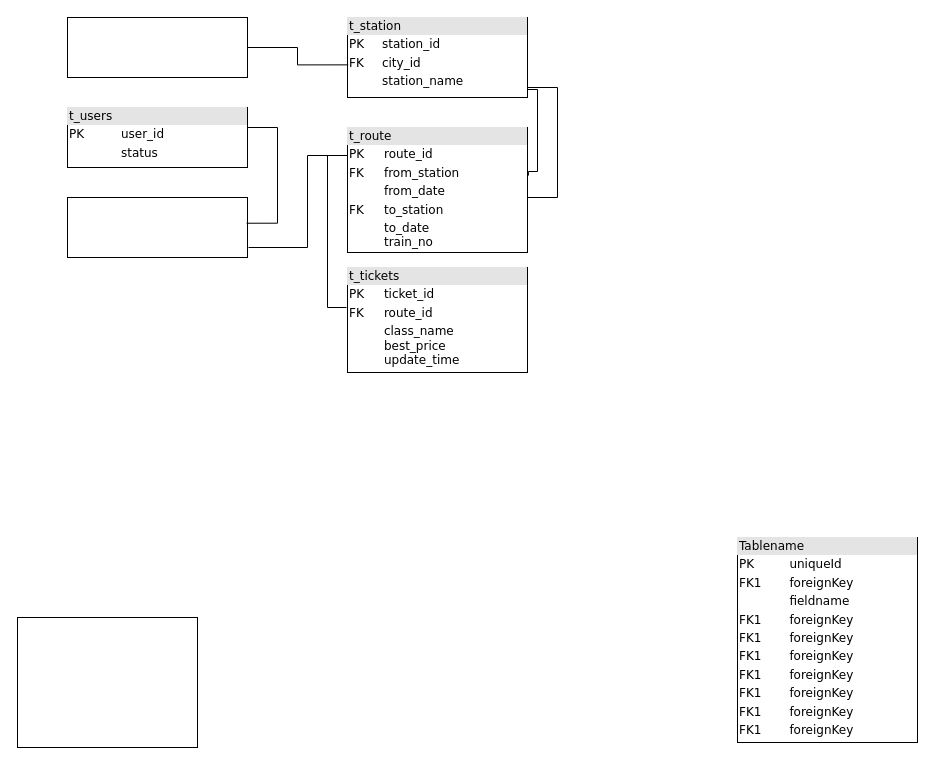
Image size: 935x765. Some labels were removed from this diagram. The shapes that lost their labels are listed below. From the top down, each one's centre as x and y in pixels, then its label:
At [157,47]: "t_city PK city_id city_name".
At [157,227]: "t_subscription PK user_id FK route_id".
At [107,682]: "Tablename PK uniqueId FK1 foreignKey fieldname fieldname fieldname fieldname".
